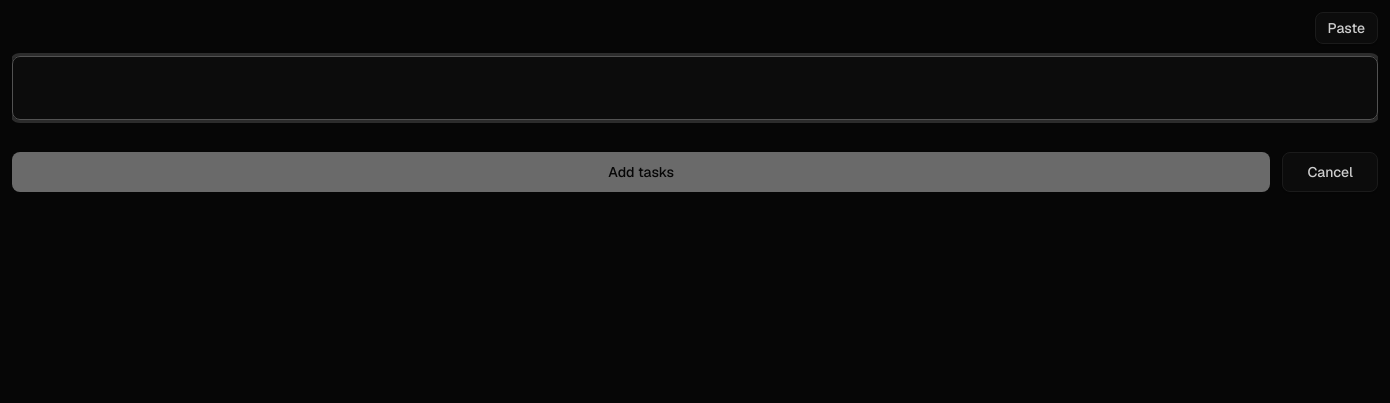
it: Bulk Capture Flow › pastes multiple tasks and parses correctly
The image size is (1390, 403).
Click the button "Paste".
click(1346, 28)  # box [1315, 12, 1378, 44]
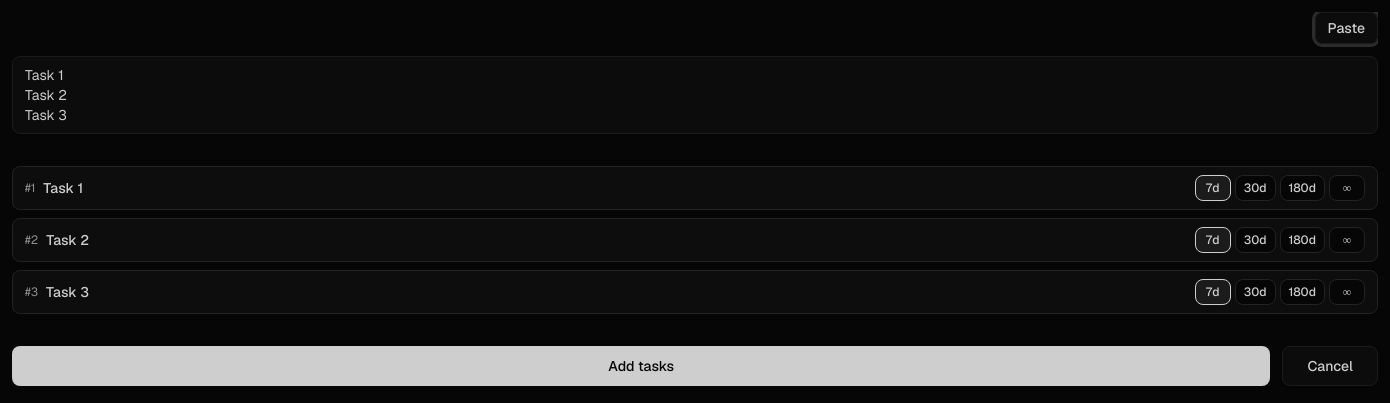
Now the text "Task 1" is shown, box [43, 179, 83, 197]
Now the text "Task 2" is shown, box [46, 231, 89, 249]
Now the text "Task 3" is shown, box [46, 283, 89, 301]
